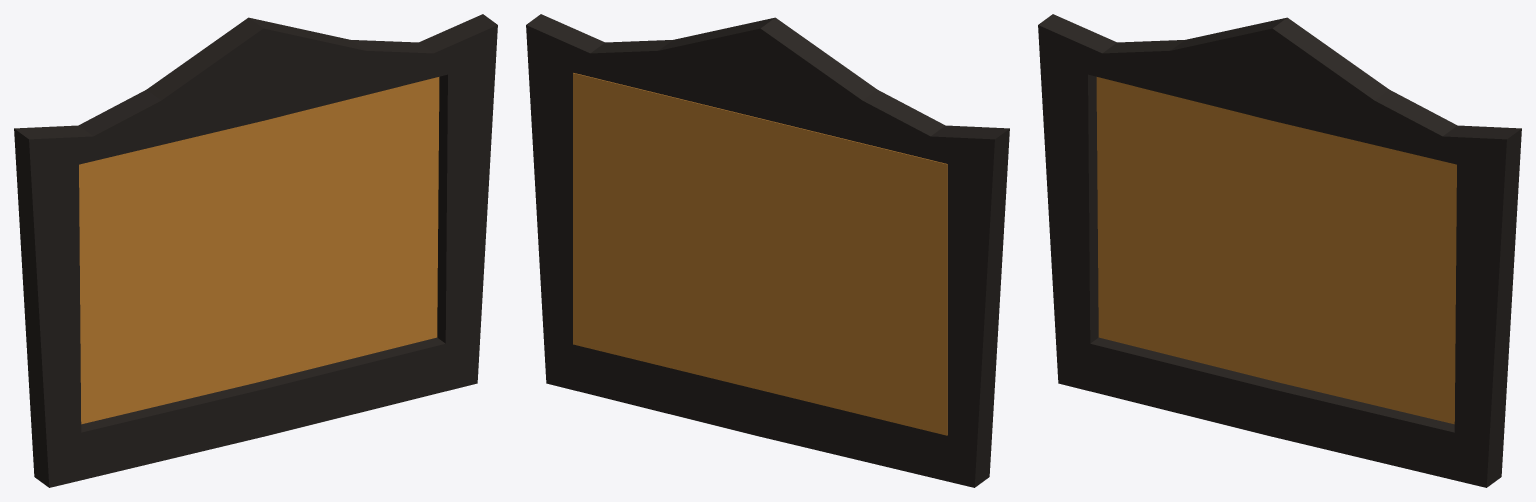
File: noticeBoard.gltf
3 renders of one model, left to right at view 1: azimuth 30°, elevation 25°; view 2: azimuth 150°, elevation 25°; view 3: azimuth 330°, elevation 25°, orthographic.
Parts seen in each view (by area): view 1: board, Cube; view 2: board, Cube; view 3: board, Cube.
Boxes of the visible parts, x1,y1,x2,y2 form: board: [79, 77, 439, 424]; Cube: [14, 14, 497, 487]; board: [573, 73, 947, 435]; Cube: [526, 14, 1009, 487]; board: [1096, 77, 1456, 424]; Cube: [1038, 14, 1521, 487].
Bounding box in the file's own units: 5.2 × 4.32 × 0.2955.
Materials: 1 (1 with a texture image).
